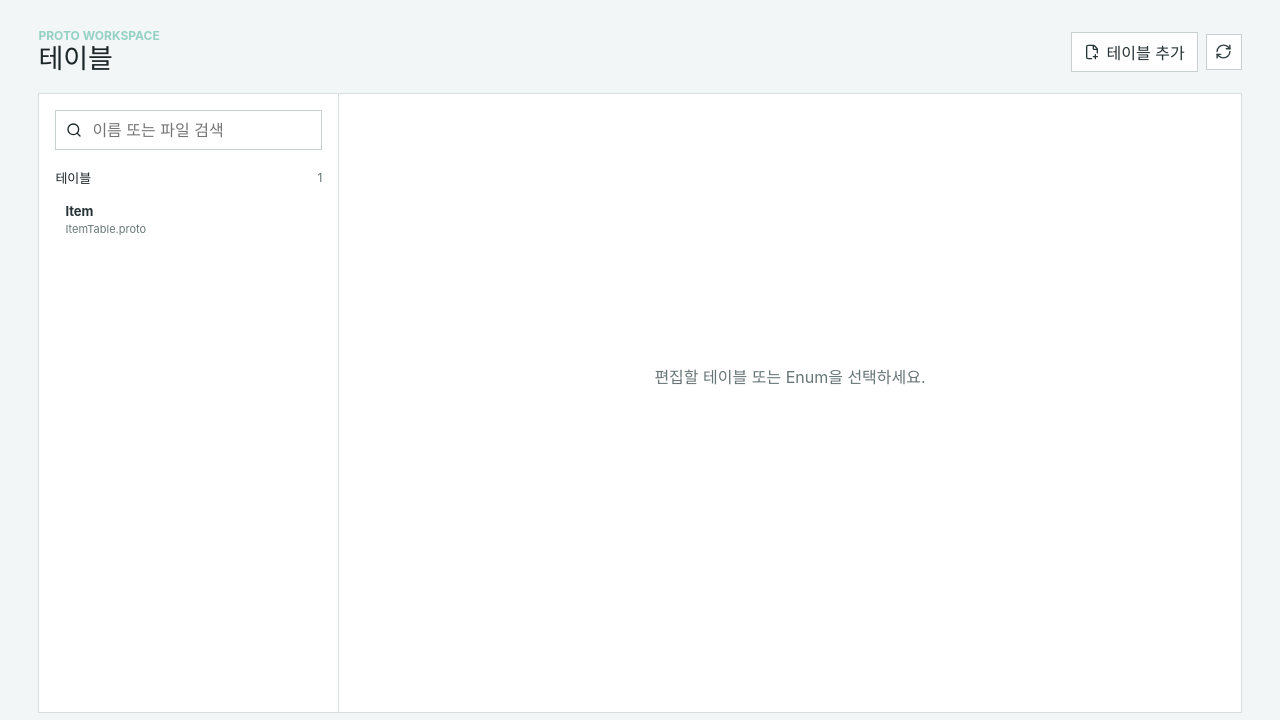
Test: SchemaScreen › uses the editable name and filename fields without a duplicate declaration header
Click the button with aria-label "Item (ItemTable.proto)". click: (106, 229)
box: 55,195 -> 322,244
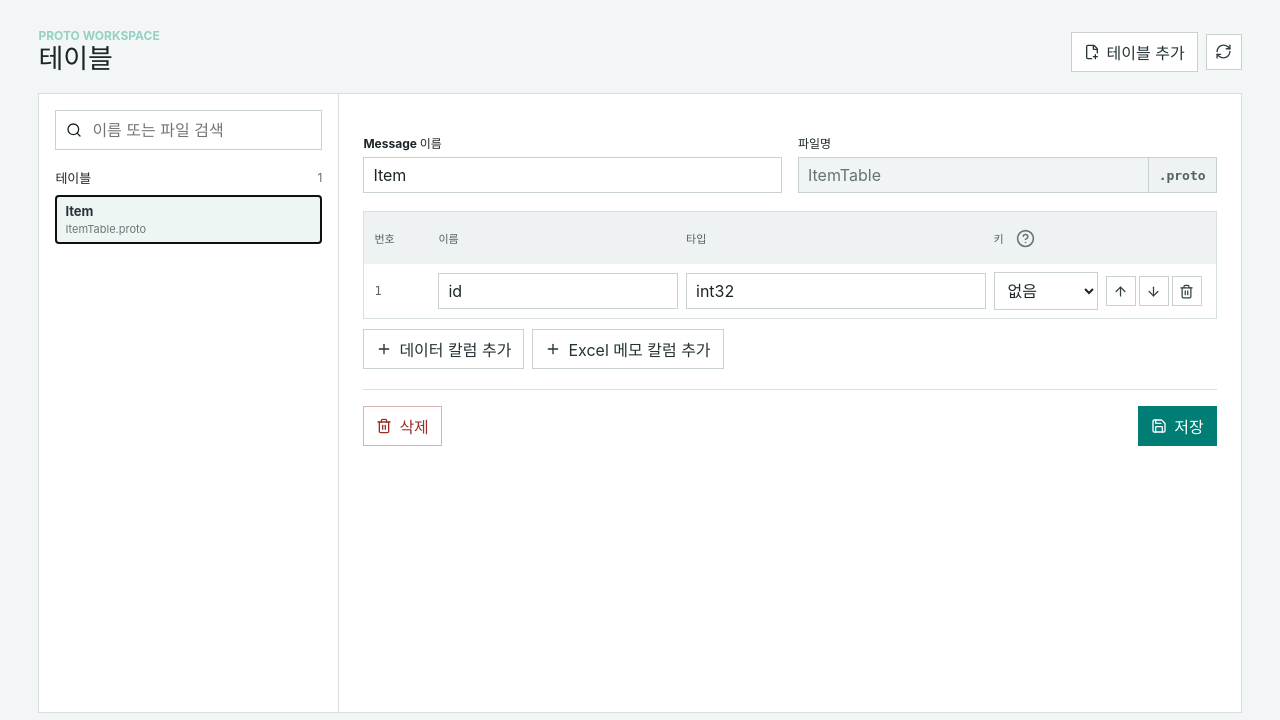
Expected: the field labelled "Message 이름" holds "Item", 363,157 -> 782,193
Expected: the field labelled "Proto 파일명" holds "ItemTable", 798,157 -> 1148,193
